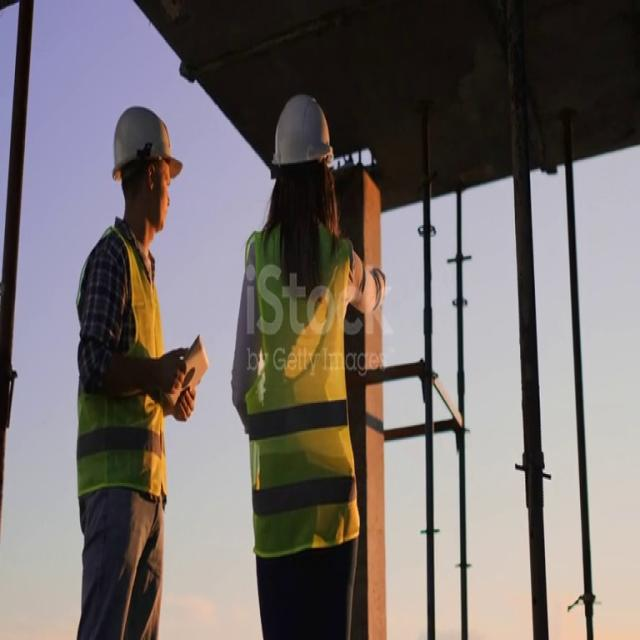capacete: (256, 73, 340, 182), (102, 94, 190, 186)
